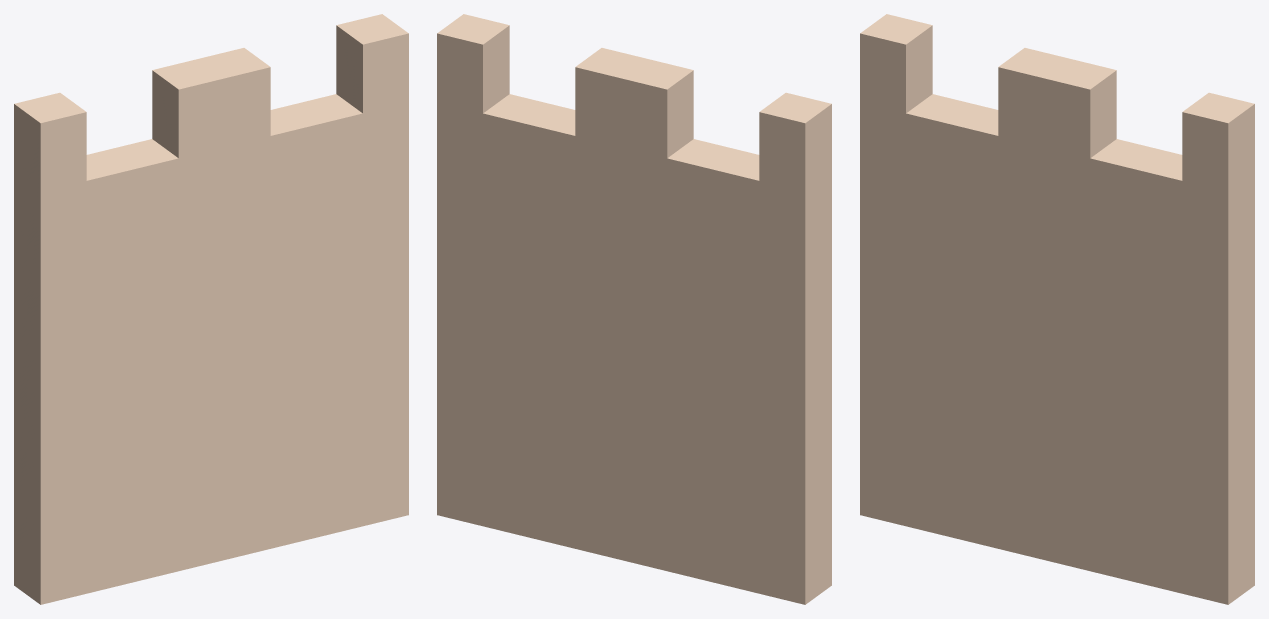
File: Abstract_Castle_Block_1_Unit_Beige_Wall_Parapet_Front_01.fbx
3 renders of one model, left to right at view 1: azimuth 30°, elevation 25°; view 2: azimuth 150°, elevation 25°; view 3: azimuth 330°, elevation 25°, orthographic.
Visible parts, largest first — view 1: Abstract_Castle_Block_1_Unit_Beige_Wall_Parapet_Front_01; view 2: Abstract_Castle_Block_1_Unit_Beige_Wall_Parapet_Front_01; view 3: Abstract_Castle_Block_1_Unit_Beige_Wall_Parapet_Front_01.
Boxes of the visible parts, <box> form: Abstract_Castle_Block_1_Unit_Beige_Wall_Parapet_Front_01: <box>14,14,408,604</box>; Abstract_Castle_Block_1_Unit_Beige_Wall_Parapet_Front_01: <box>437,14,831,604</box>; Abstract_Castle_Block_1_Unit_Beige_Wall_Parapet_Front_01: <box>860,14,1254,604</box>.
Size of the model in its own units: 98.43 by 123 by 12.3.
